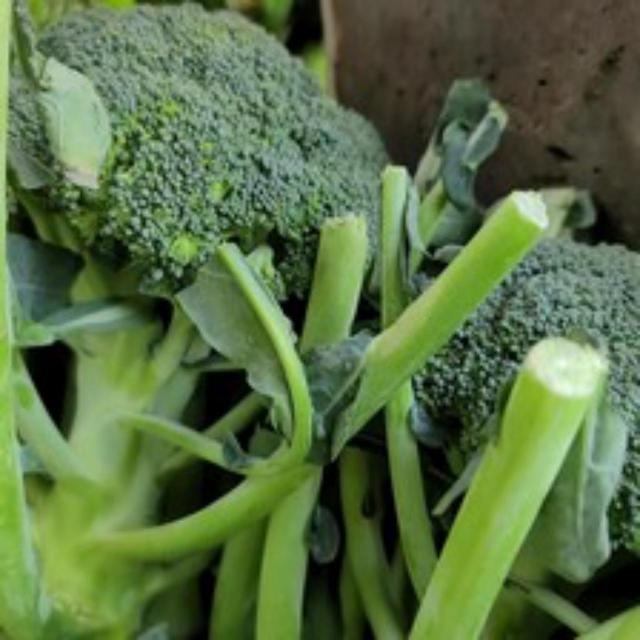broccoli: (0, 0, 420, 365)
